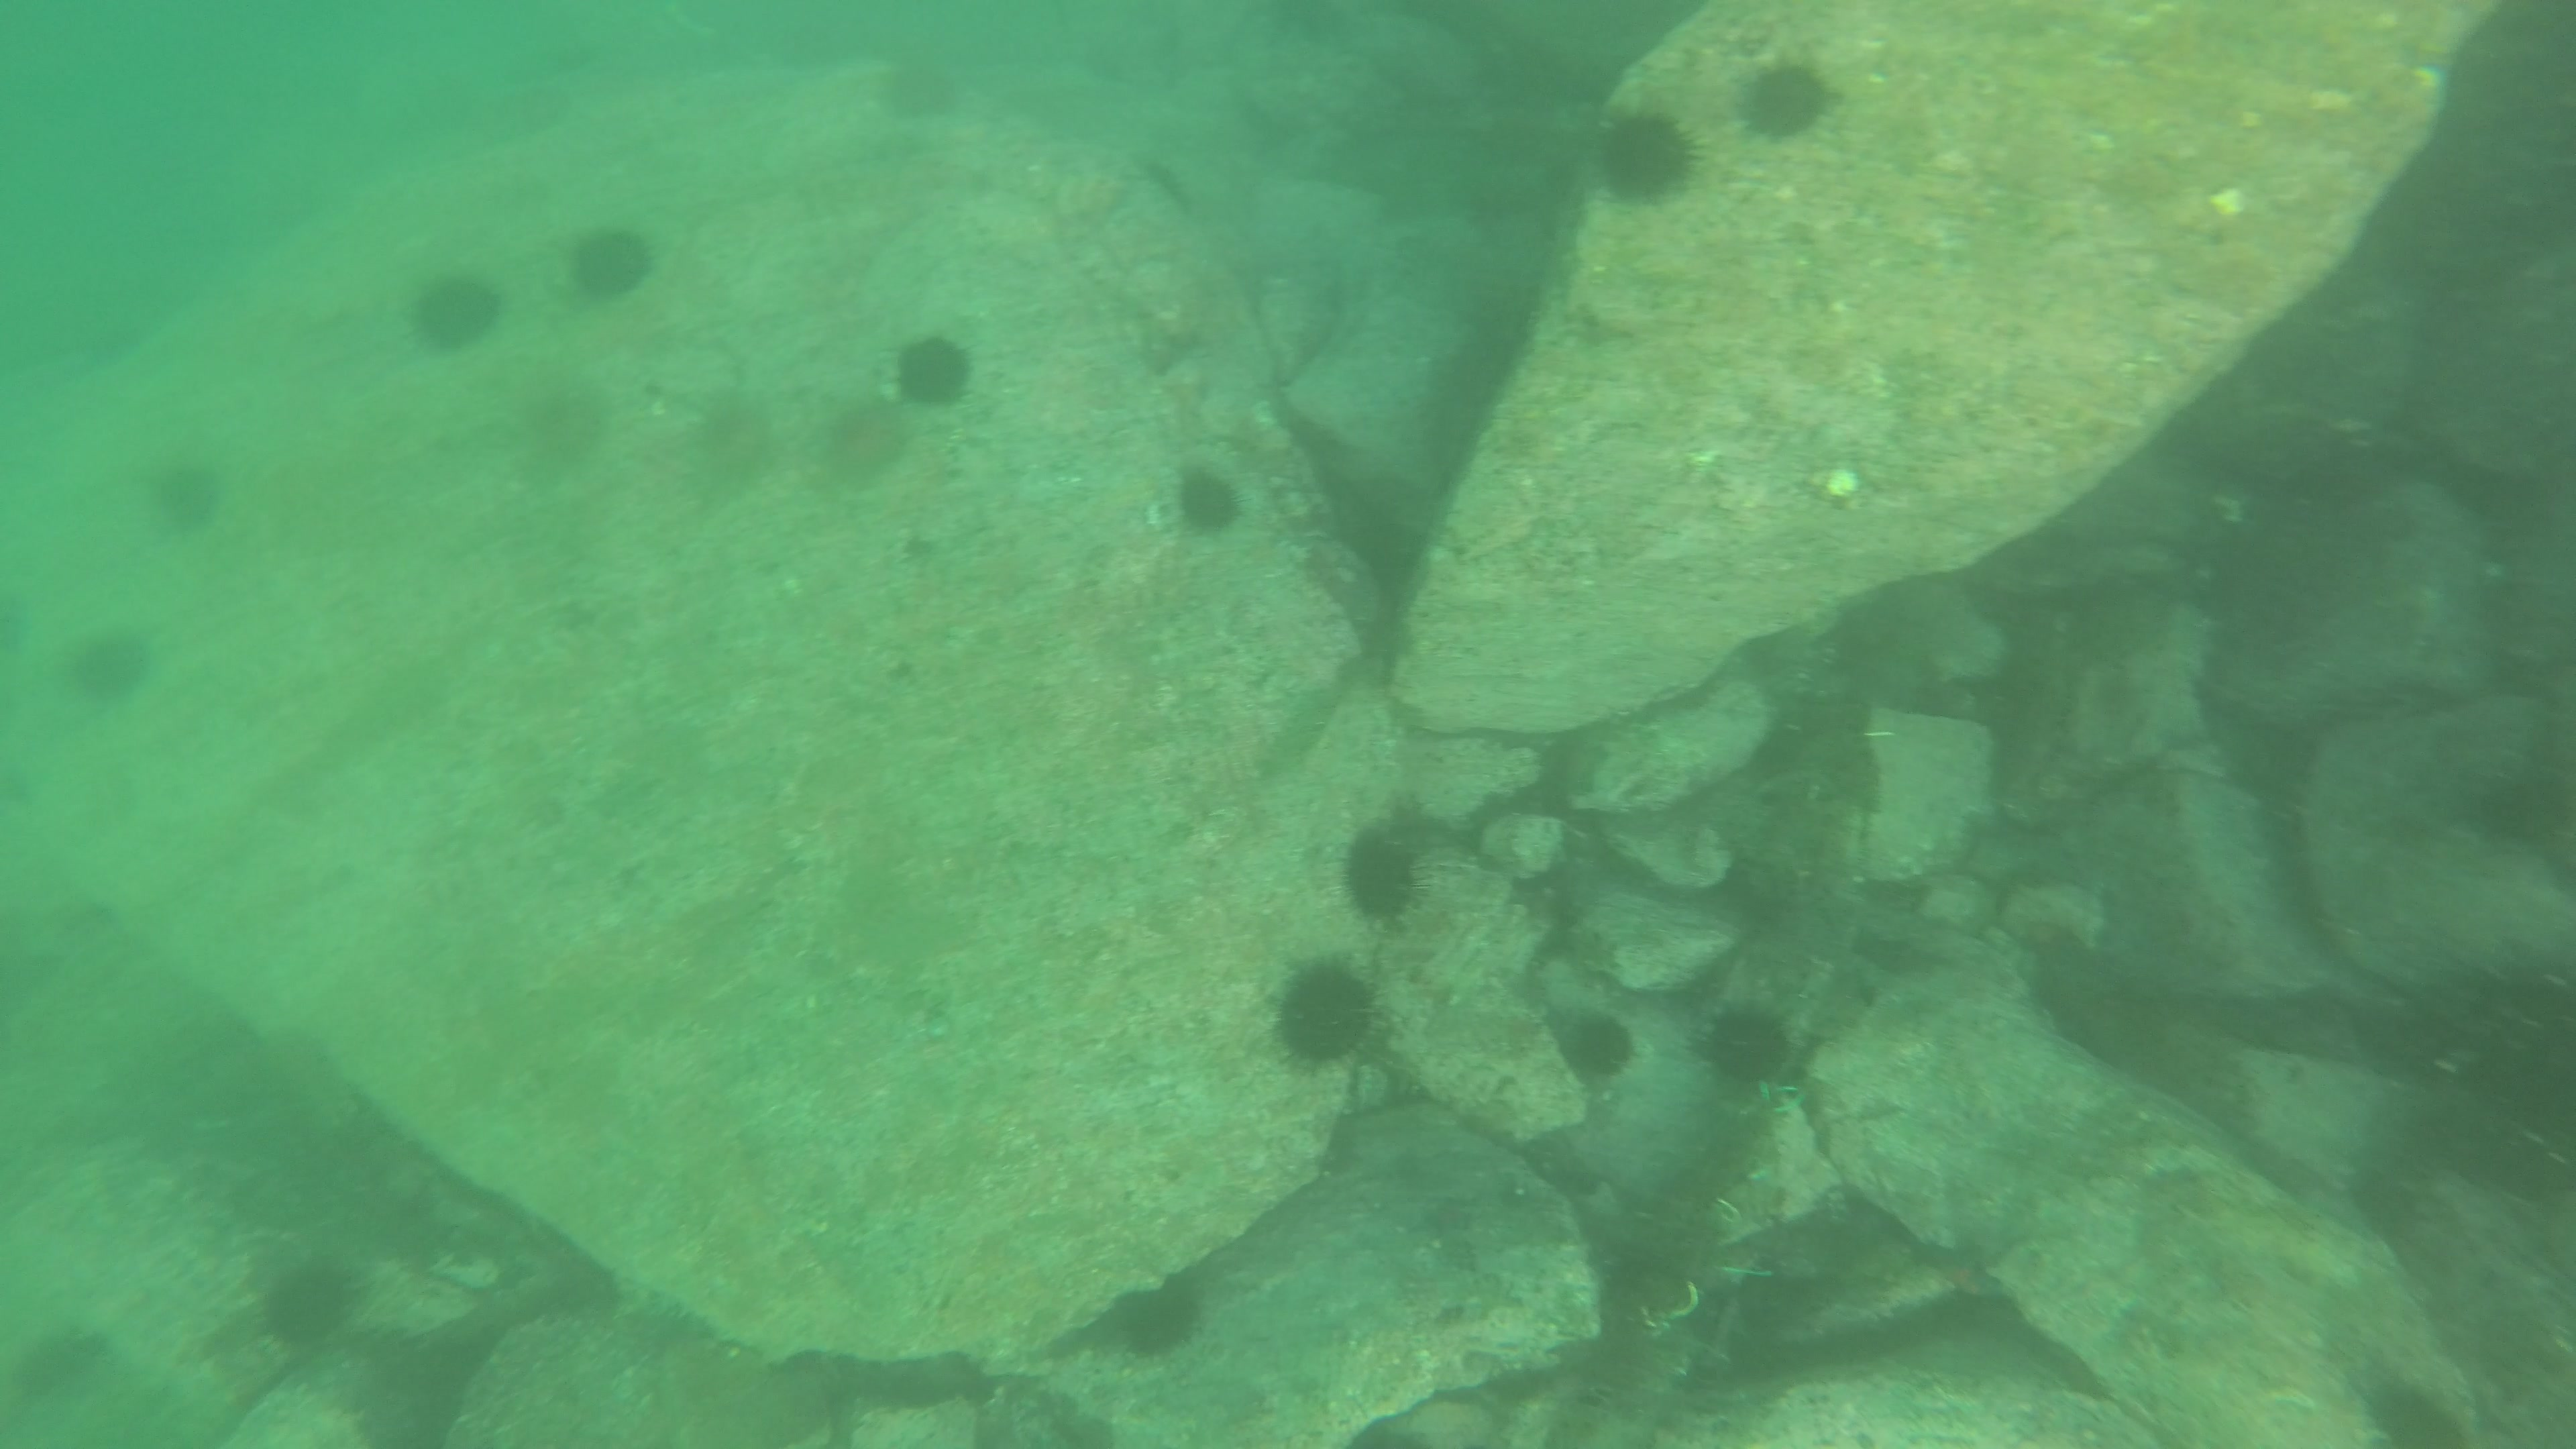echinus: (1270, 968, 1385, 1070), (494, 393, 610, 483), (663, 395, 768, 495), (809, 393, 909, 495), (1341, 833, 1444, 927), (1596, 111, 1693, 209), (1736, 53, 1849, 133), (1690, 1007, 1801, 1083), (419, 274, 511, 356), (246, 1272, 354, 1341), (561, 234, 651, 299), (890, 334, 966, 409), (1169, 458, 1244, 533), (1125, 1290, 1200, 1364), (64, 623, 140, 695), (147, 458, 214, 527), (1566, 1021, 1631, 1092)
